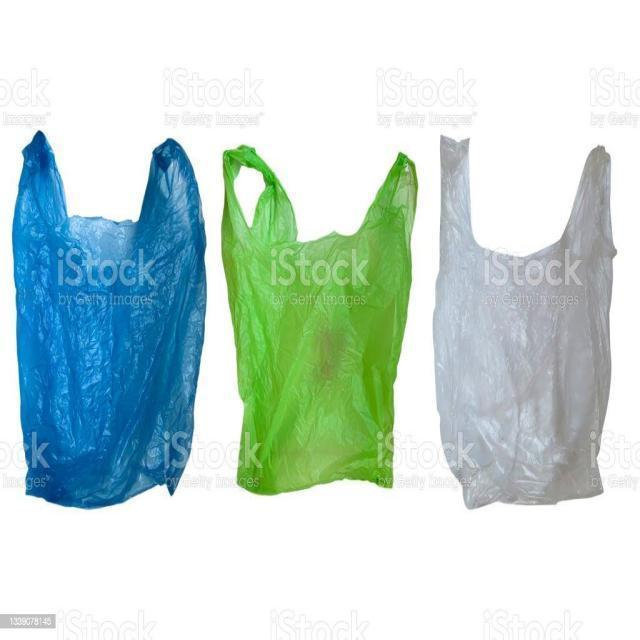KantongPlastik: (10, 128, 208, 509), (218, 142, 419, 496), (431, 132, 617, 509)
